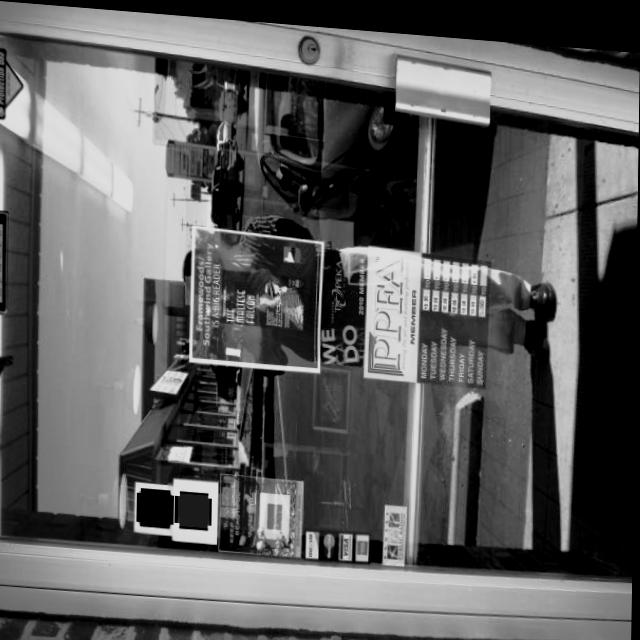qr_code: (140, 487, 173, 522), (179, 489, 211, 524)
